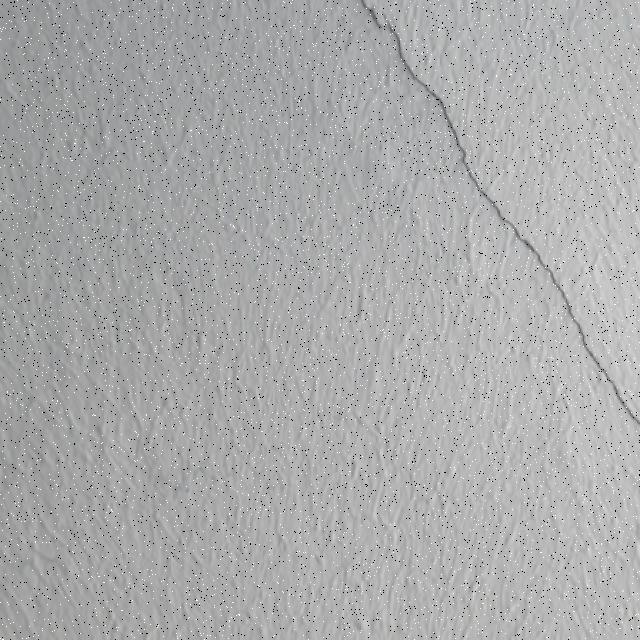severe crack: (588, 347, 637, 435), (407, 75, 445, 111)
